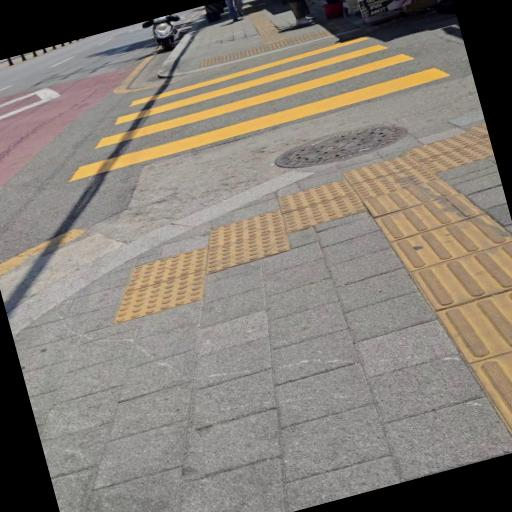yellow-crosswalk: (28, 0, 461, 202)
